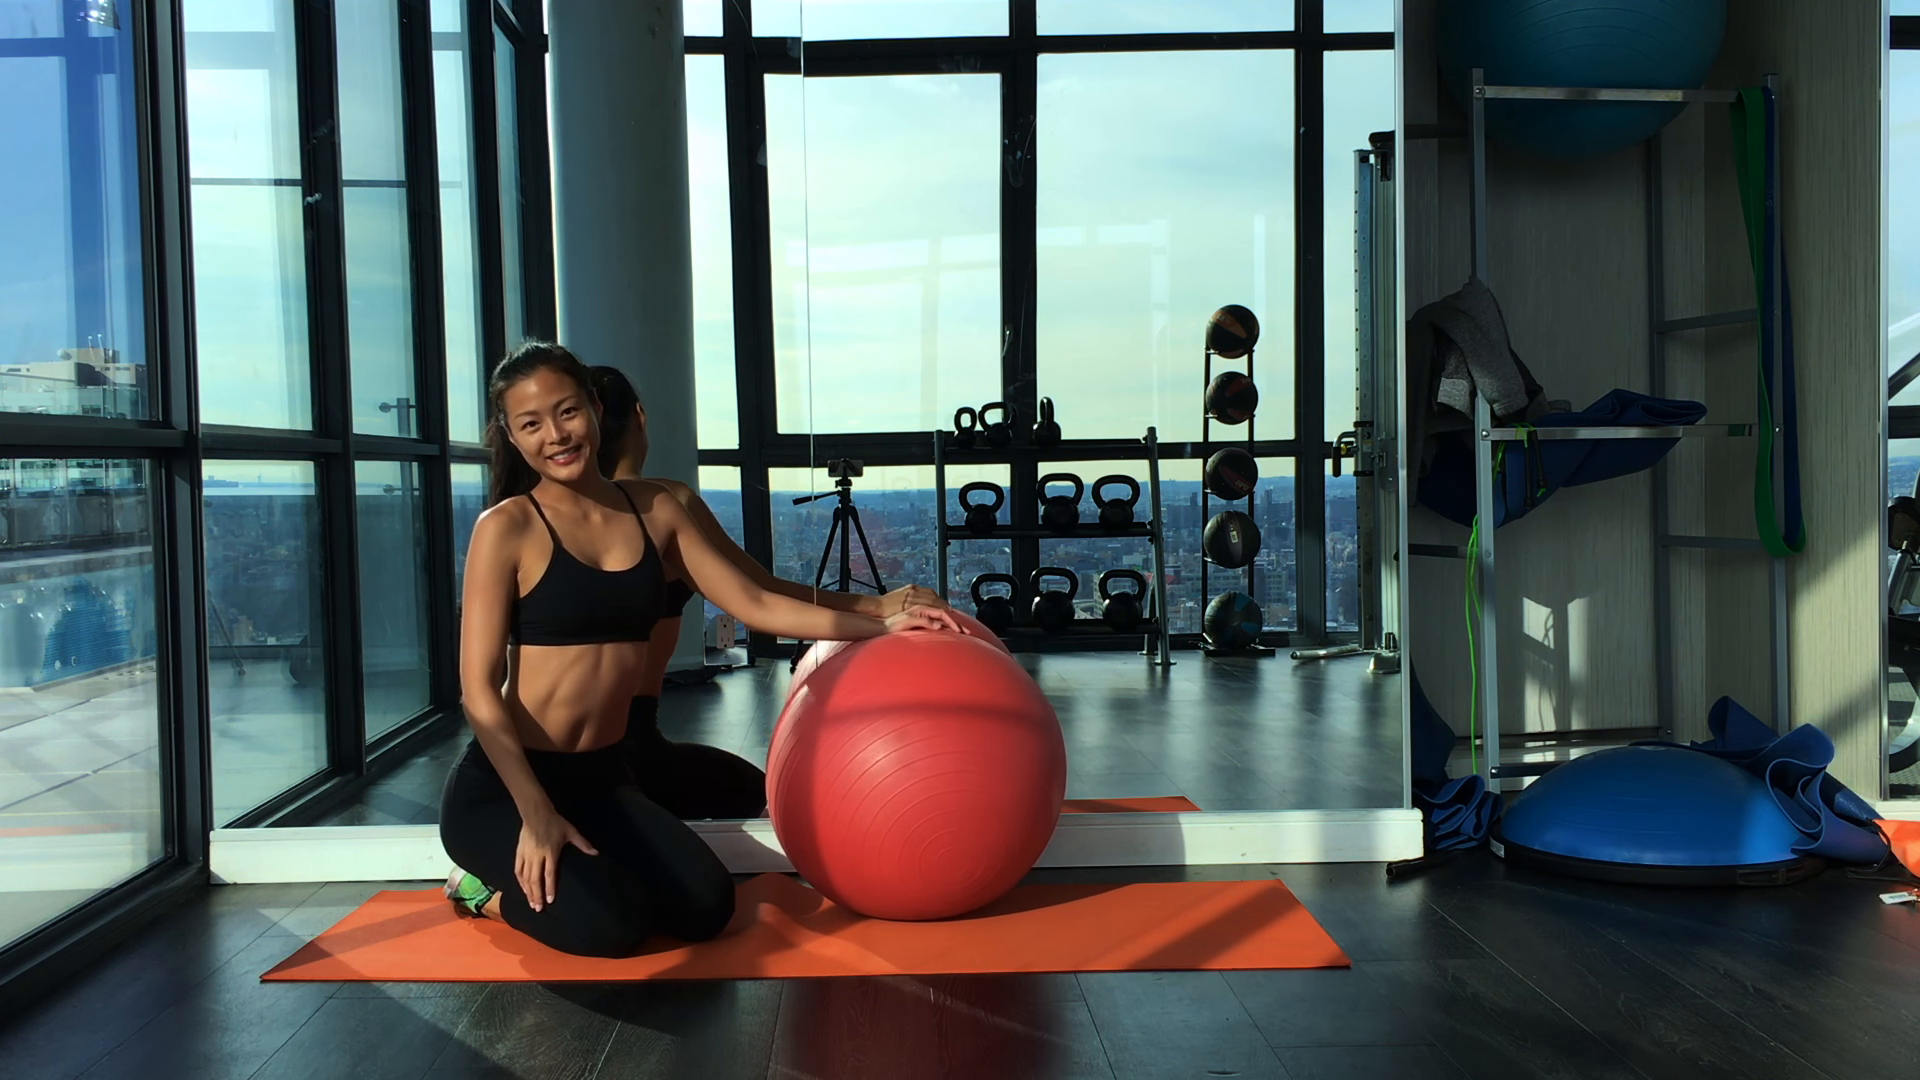yogaball: (749, 616, 1087, 927)
